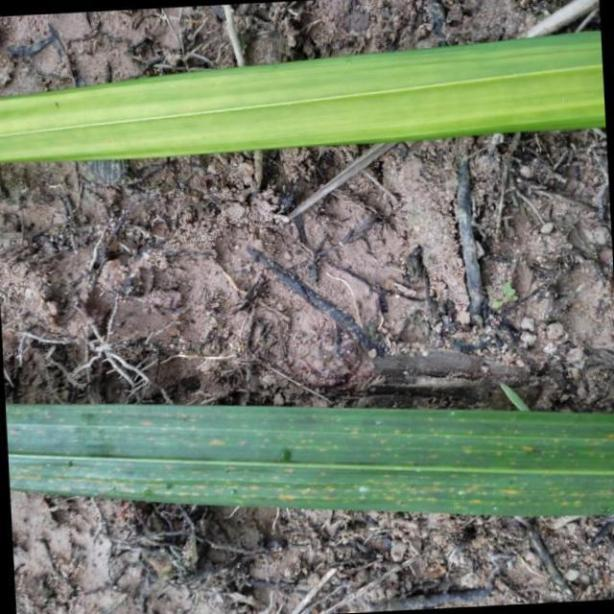nitrogen: (0, 29, 614, 169), (6, 395, 614, 518)
